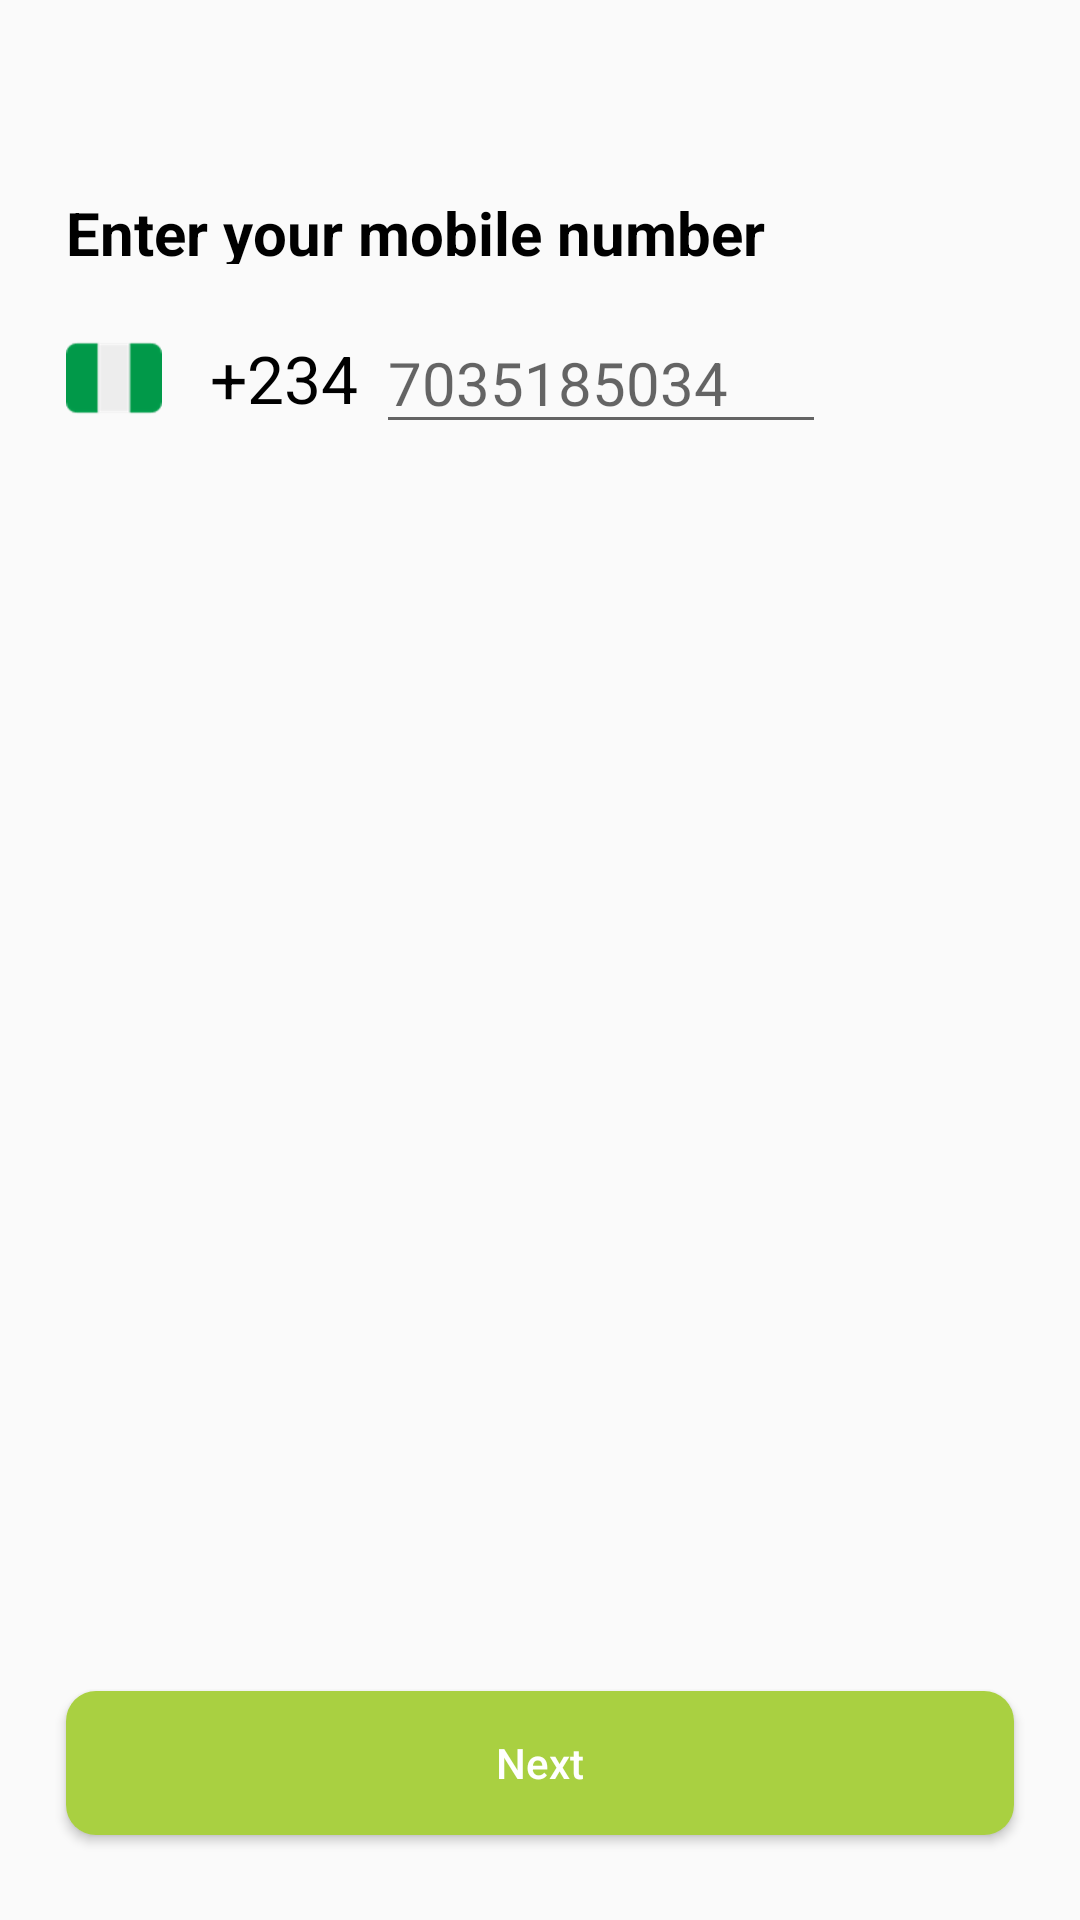

Screen size 1080px x 1920px. Icon name, then its center in pixels as (x,y):
nigeria: (114,378)
